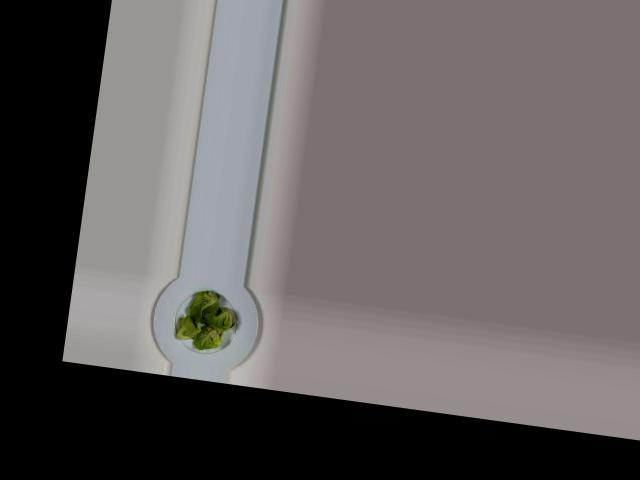lettuce: (172, 281, 241, 353)
